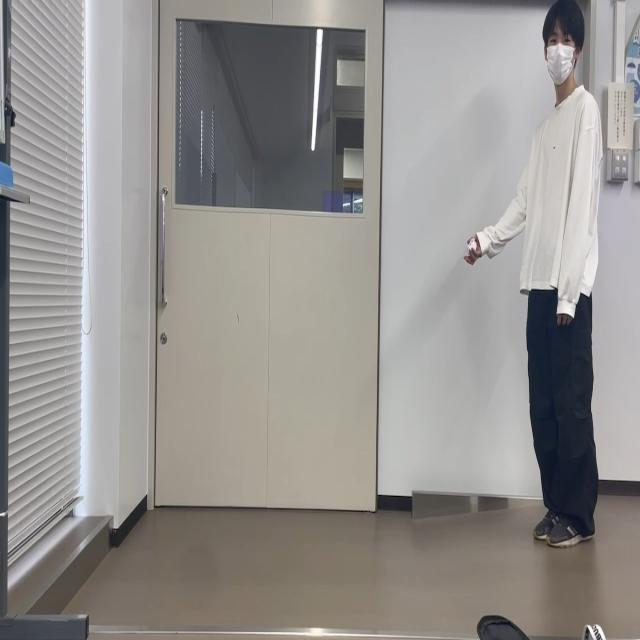paper: (464, 229, 483, 267)
